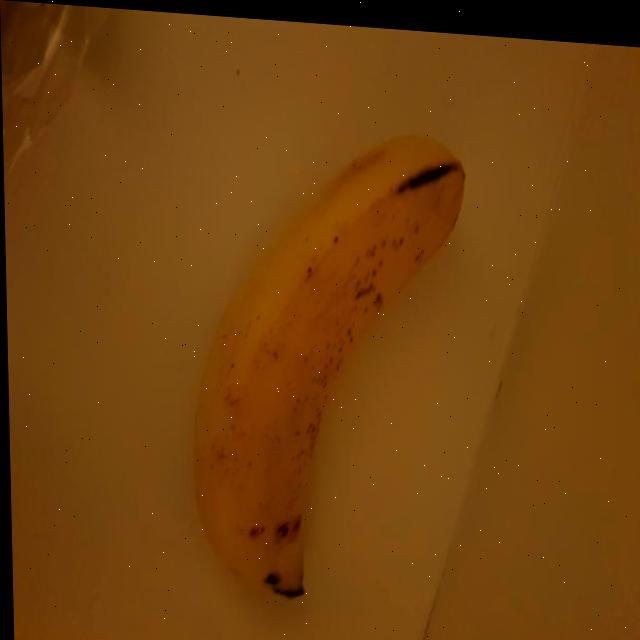banana: (175, 106, 486, 632)
